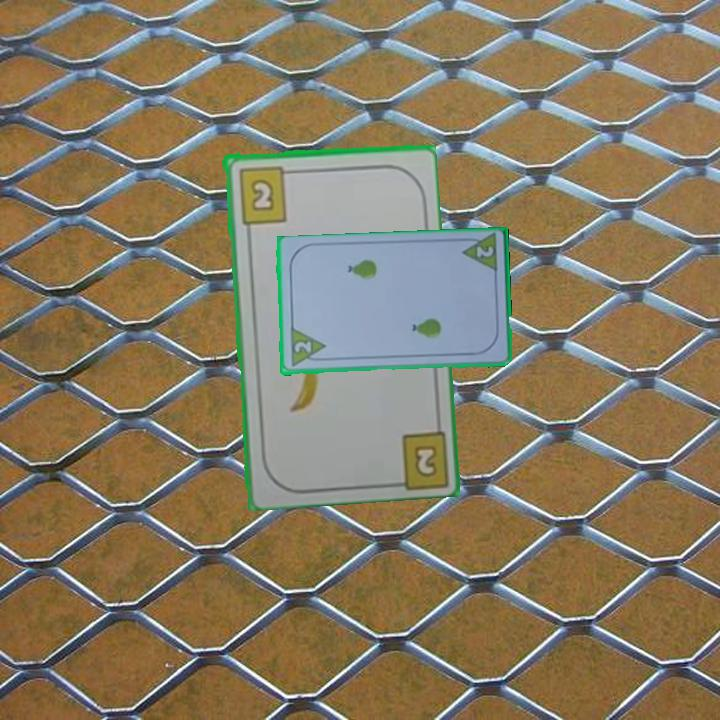2b: (234, 162, 296, 226), (410, 441, 441, 480)
2p: (458, 232, 500, 276), (290, 338, 314, 356)
